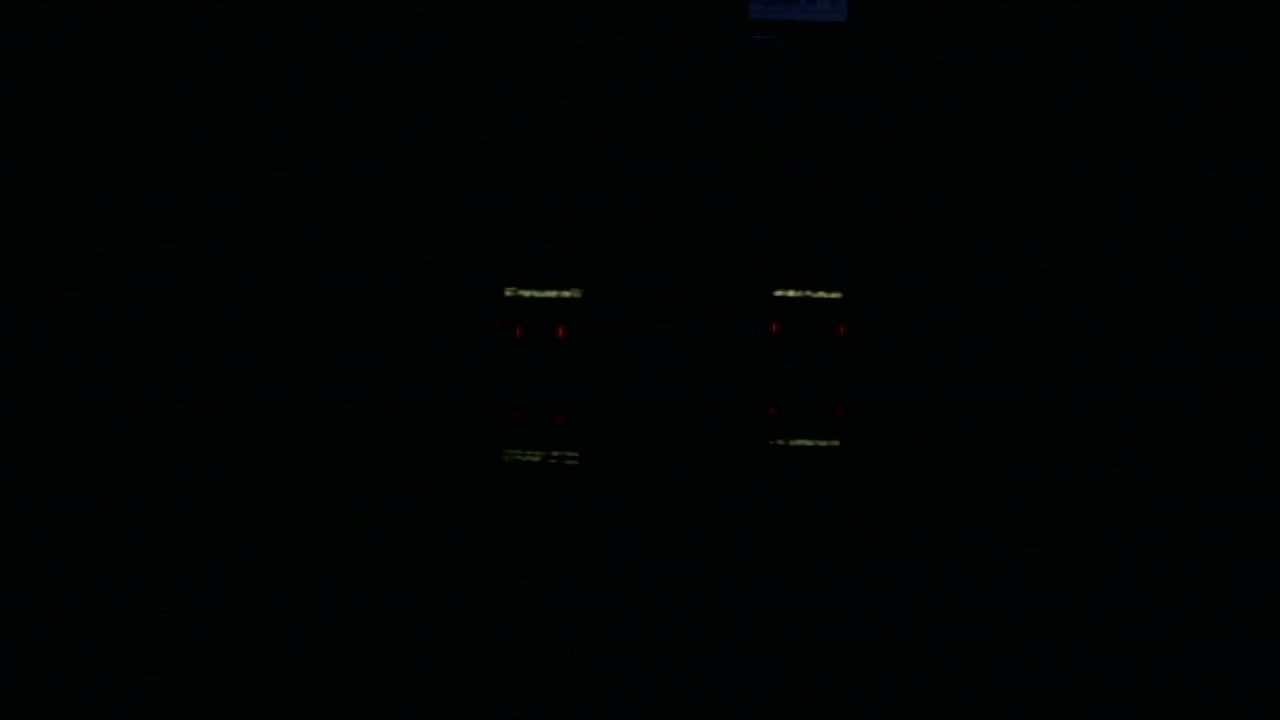lamp: (841, 322, 848, 335), (771, 321, 777, 336), (516, 325, 521, 333), (559, 326, 563, 335)
pair1: (517, 327, 562, 335)
pair2: (771, 322, 846, 336)
